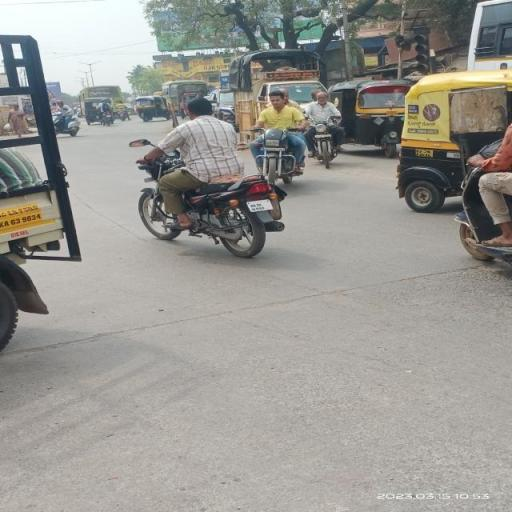bike: (122, 93, 290, 258)
withouthelmet: (186, 98, 214, 116)
